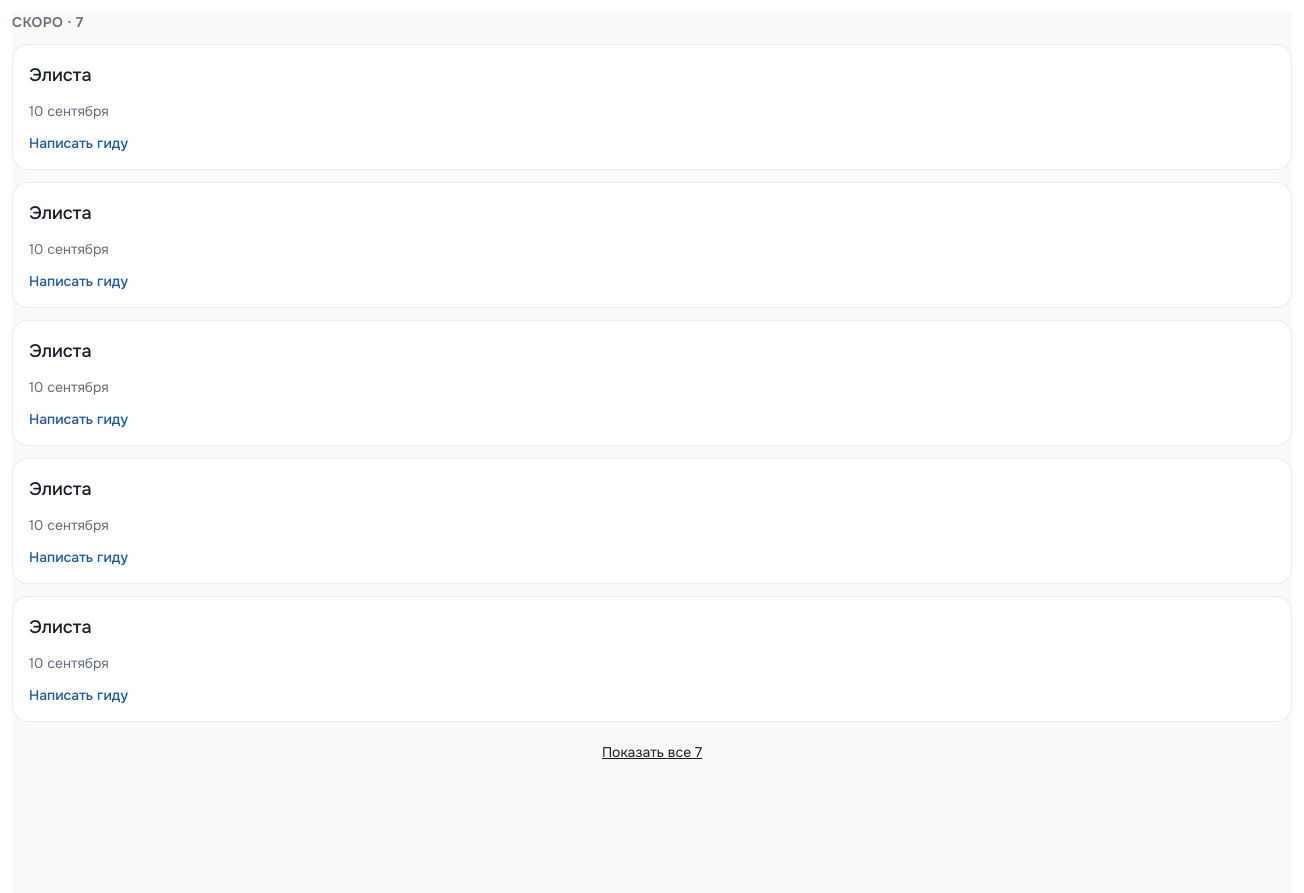
Test case: CabinetSection › expands to all cards after clicking «Показать все»
Click the button "Показать все 7".
click(652, 752)  # box [12,742,1292,762]
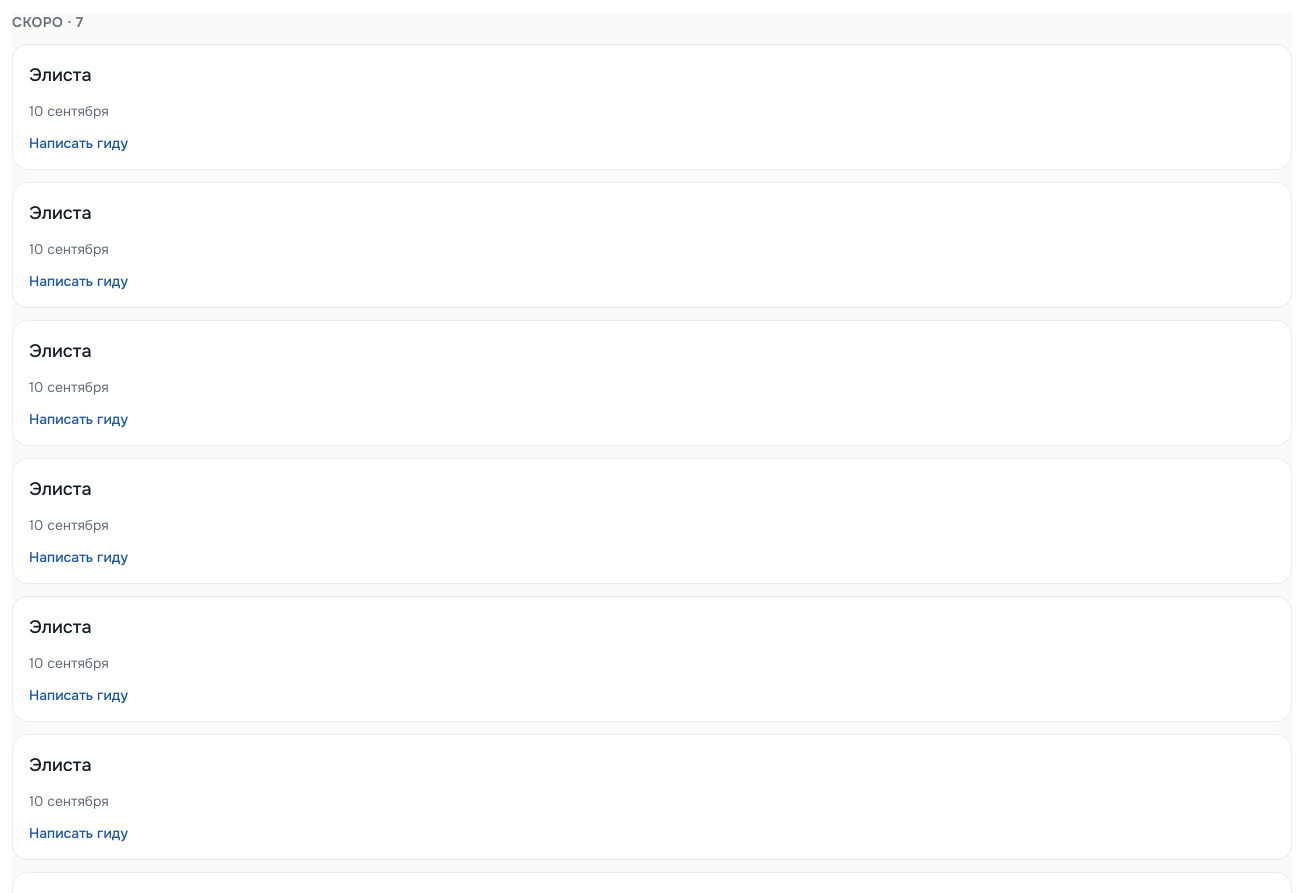
Check: the number of elements with test id "trip-card" is 7
